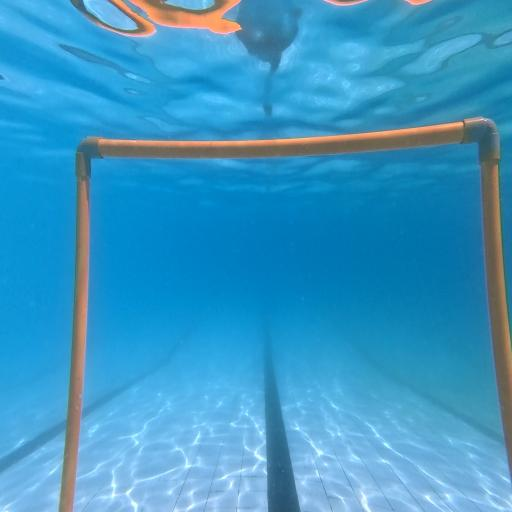gate: (59, 117, 512, 512)
